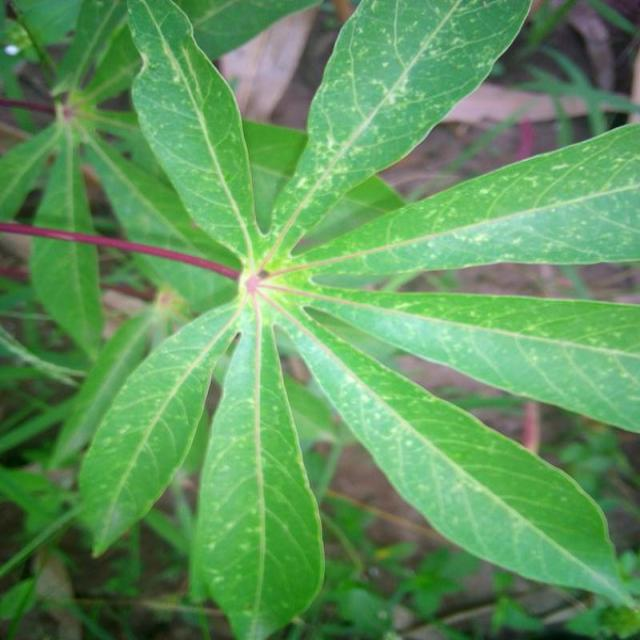cassava leaf: (6, 0, 640, 638), (268, 0, 536, 254), (190, 302, 326, 638), (127, 0, 259, 263)
